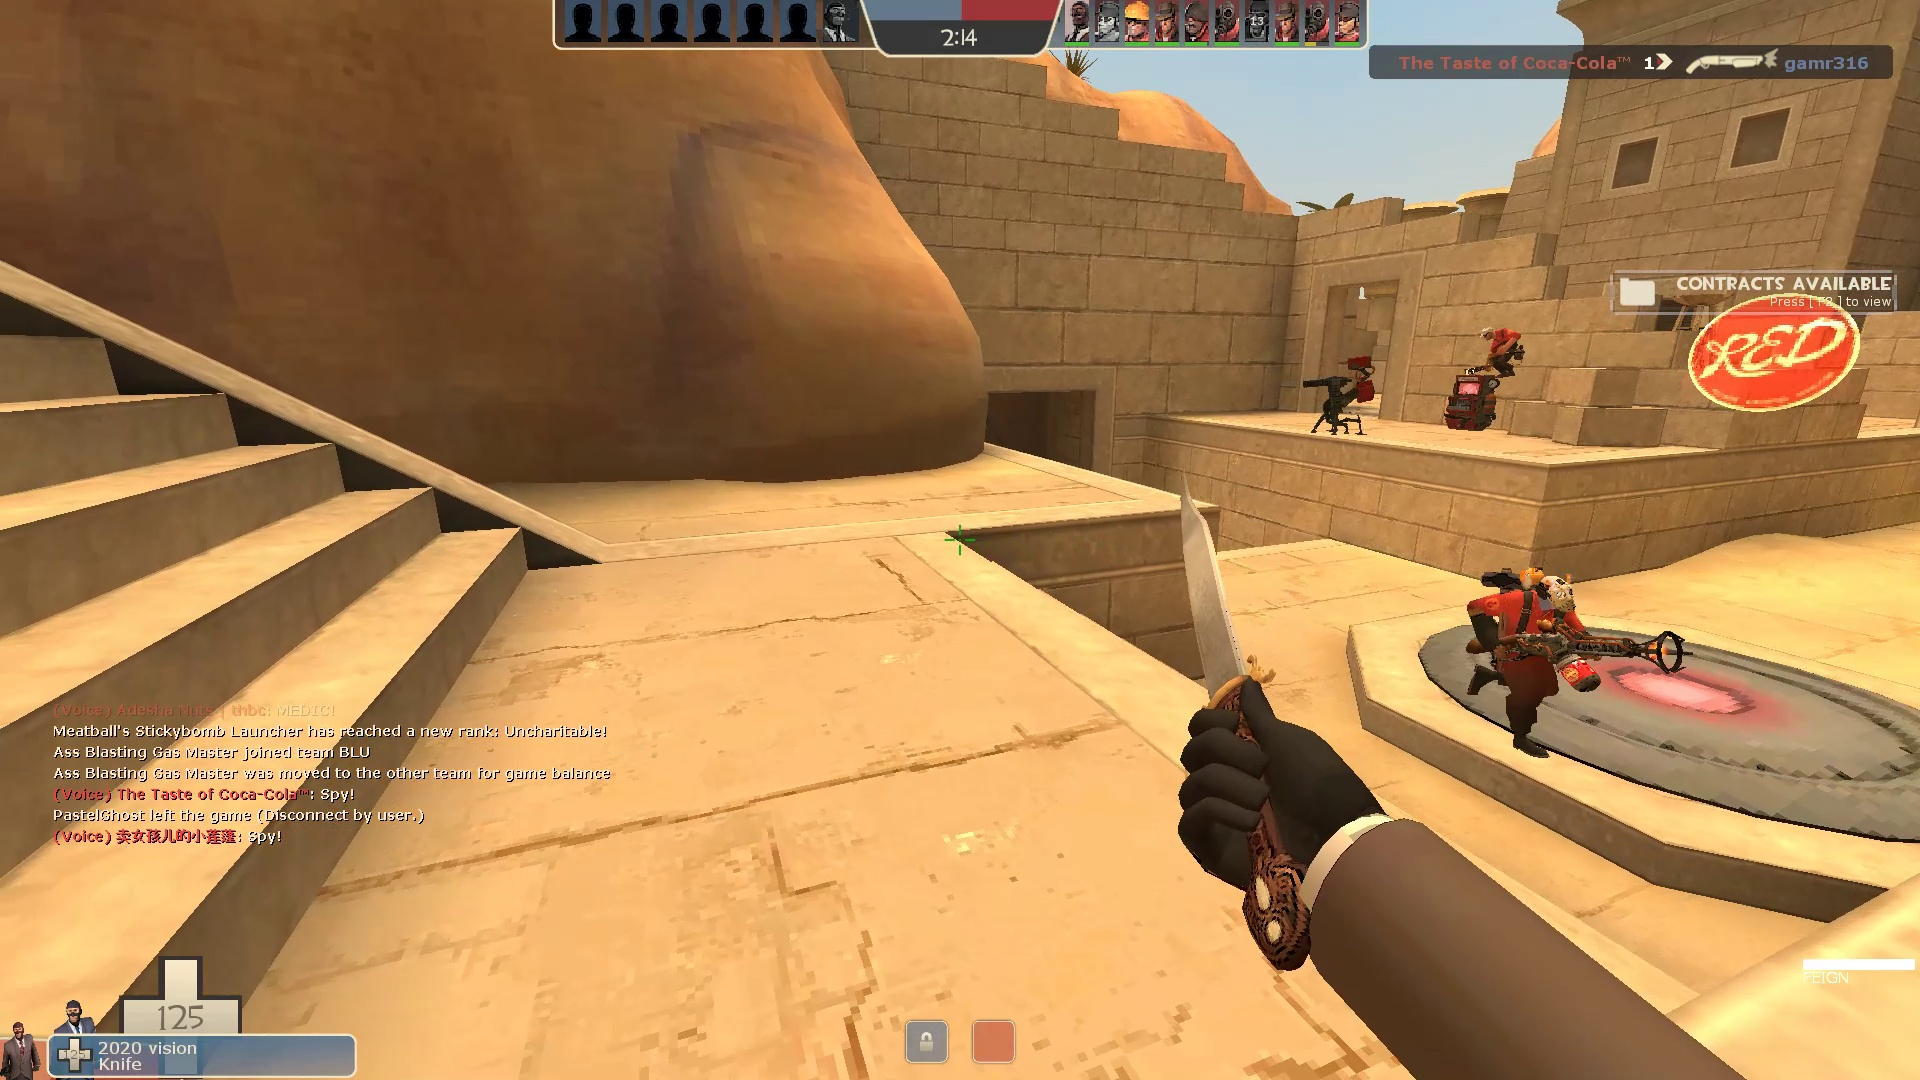red_dispenser: (1440, 369, 1503, 436)
red_engineer: (1462, 319, 1528, 381)
red_pyro: (1455, 556, 1691, 785)
red_sentry_3: (1296, 349, 1379, 439)
